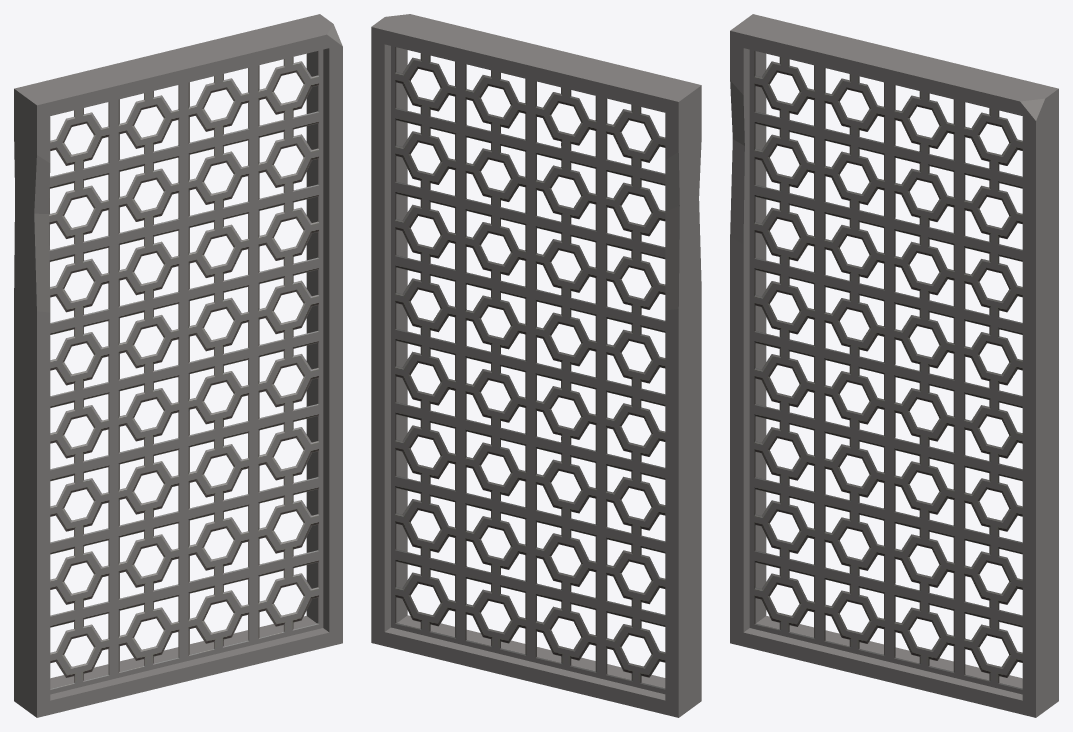
File: SM_Bld_Decorative_Block_08.glb
3 renders of one model, left to right at view 1: azimuth 30°, elevation 25°; view 2: azimuth 150°, elevation 25°; view 3: azimuth 330°, elevation 25°, orthographic.
Parts seen in each view (by area): view 1: SM_Bld_Decorative_Block_08; view 2: SM_Bld_Decorative_Block_08; view 3: SM_Bld_Decorative_Block_08.
Part boxes in pixels (<box>): SM_Bld_Decorative_Block_08: <box>14,14,342,717</box>; SM_Bld_Decorative_Block_08: <box>371,14,701,717</box>; SM_Bld_Decorative_Block_08: <box>730,14,1058,717</box>.
Bounding box in the file's own units: 1.82 × 3.48 × 0.2356.
Materials: 1 (1 with a texture image).
